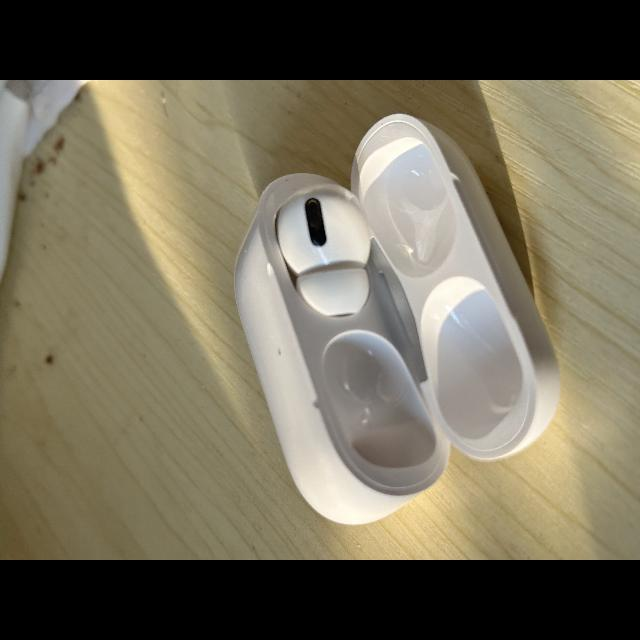AirPods Pro: (235, 113, 560, 525)
